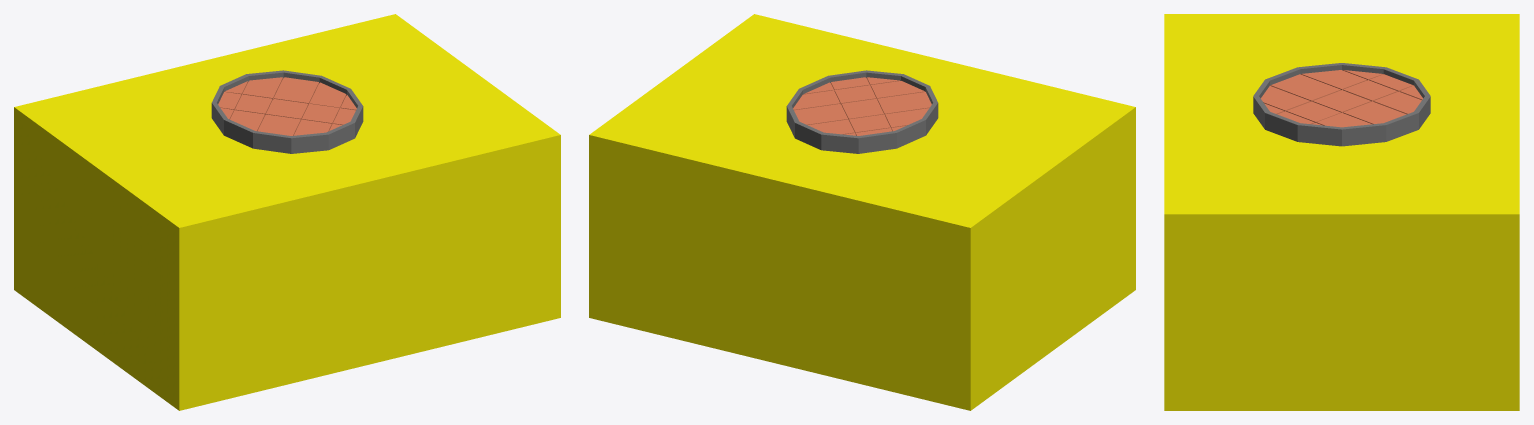
The model's file is Barrier.fbx.
The picture shows the model from 3 angles, left to right: view 1: azimuth 30°, elevation 25°; view 2: azimuth 150°, elevation 25°; view 3: azimuth 270°, elevation 25°; orthographic projection. The views are drawn at different scales.
Parts seen in each view (by area): view 1: BarrierKit; view 2: BarrierKit; view 3: BarrierKit.
Boxes of the visible parts, x1,y1,x2,y2 form: BarrierKit: (14, 14, 560, 410); BarrierKit: (589, 14, 1135, 410); BarrierKit: (1164, 14, 1519, 410).
Bounding box in the file's own units: 100 × 50 × 75.
